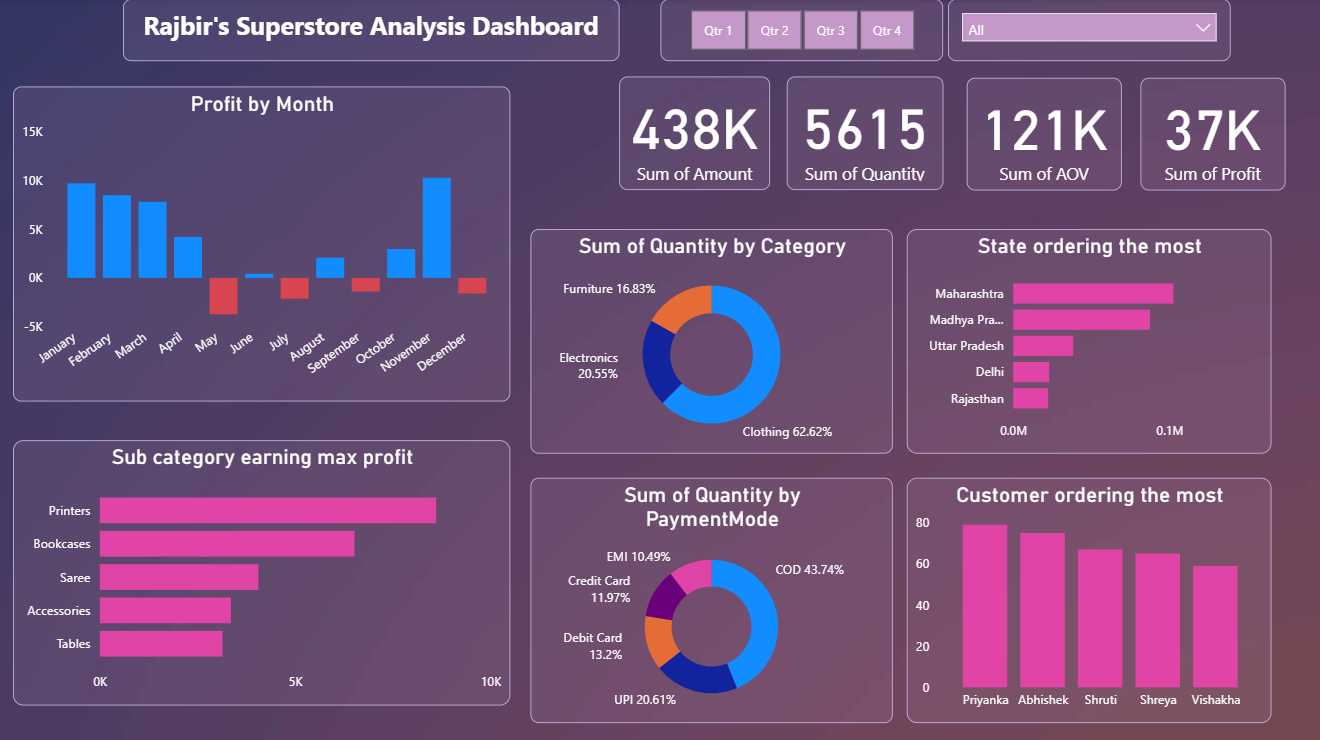

This screenshot's page, from the dashboard's own definition file:
{"tool":"powerbi","page":{"name":"Page 1","canvas":[1280,720],"ordinal":0},"visuals":[{"type":"textbox","box":[120.6,0,479,60.3],"z":0},{"type":"columnChart","title":"Profit by Month","fields":{"Category":["Orders.Order Date.Variation.Date Hierarchy.Month"],"Y":["Details.Profit"]},"box":[14.5,84.5,480.2,304],"z":1000},{"type":"barChart","title":"Sub category earning max profit","fields":{"Category":["Details.Sub-Category"],"Y":["Details.Profit"]},"box":[14.5,425.9,480.2,255.8],"z":2000},{"type":"donutChart","fields":{"Category":["Details.Category"],"Y":["Details.Quantity"]},"box":[513.9,222,349.9,217.2],"z":3000},{"type":"donutChart","fields":{"Y":["Details.Quantity"],"Category":["Details.PaymentMode"]},"box":[513.9,462.1,349.9,236.5],"z":4000},{"type":"card","fields":{"Values":["Details.Amount"]},"box":[599.6,74.8,146,109.8],"z":5000},{"type":"card","fields":{"Values":["Details.Profit"]},"box":[1102.7,76,139.9,108.6],"z":6000},{"type":"card","fields":{"Values":["Details.Quantity"]},"box":[761.3,74.8,150.8,109.8],"z":7000},{"type":"card","fields":{"Values":["Details.AOV"]},"box":[935,76,149.6,108.6],"z":8000},{"type":"barChart","title":"State ordering the most","fields":{"Category":["Orders.State"],"Y":["Details.Amount"]},"box":[877.1,222,352.3,217.2],"z":9000},{"type":"columnChart","title":"Customer ordering the most","fields":{"Category":["Orders.CustomerName"],"Y":["Details.Quantity"]},"box":[877.1,462.1,352.3,236.5],"z":10000},{"type":"slicer","fields":{"Values":["Orders.Order Date.Variation.Date Hierarchy.Quarter"]},"box":[639.4,0,272.7,60.3],"z":11000},{"type":"slicer","fields":{"Values":["Orders.City"]},"box":[916.9,0,272.7,60.3],"z":12000}]}

Visuals, with their boxes in screenshot pixels (x1, y1, x2, y2), scaled from the page's 1280x720 canvas onto the 1320x740 screenshot:
textbox: x1=124 y1=0 x2=618 y2=62
"Profit by Month" columnChart: x1=15 y1=87 x2=510 y2=399
"Sub category earning max profit" barChart: x1=15 y1=438 x2=510 y2=701
donutChart - Details.Category x Details.Quantity: x1=530 y1=228 x2=891 y2=451
donutChart - Details.Quantity x Details.PaymentMode: x1=530 y1=475 x2=891 y2=718
card - Details.Amount: x1=618 y1=77 x2=769 y2=190
card - Details.Profit: x1=1137 y1=78 x2=1281 y2=190
card - Details.Quantity: x1=785 y1=77 x2=941 y2=190
card - Details.AOV: x1=964 y1=78 x2=1118 y2=190
"State ordering the most" barChart: x1=905 y1=228 x2=1268 y2=451
"Customer ordering the most" columnChart: x1=905 y1=475 x2=1268 y2=718
slicer - Orders.Order Date.Variation.Date Hierarchy.Quarter: x1=659 y1=0 x2=941 y2=62
slicer - Orders.City: x1=946 y1=0 x2=1227 y2=62
